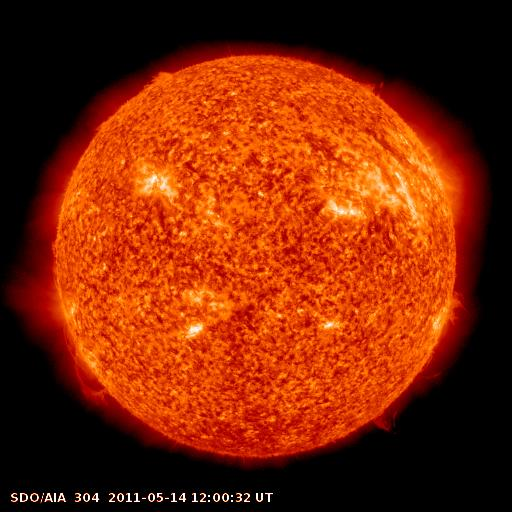prominence: (62, 331, 116, 410), (123, 60, 180, 98), (431, 288, 478, 334), (359, 70, 392, 107)
